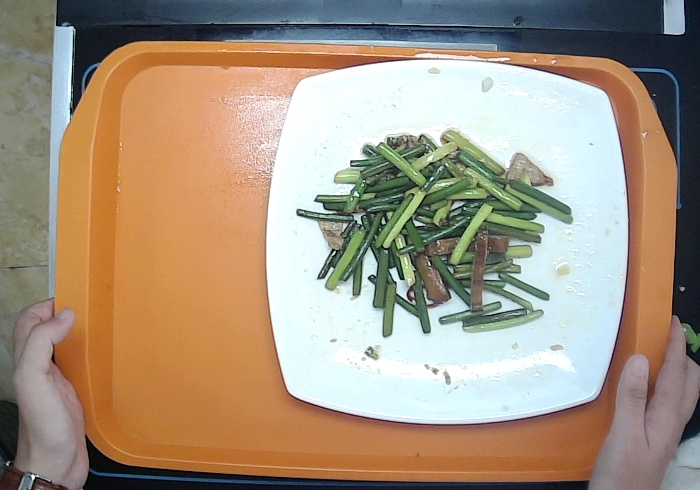ZNLD-Bai_Fang_Pan: (252, 46, 642, 438)
